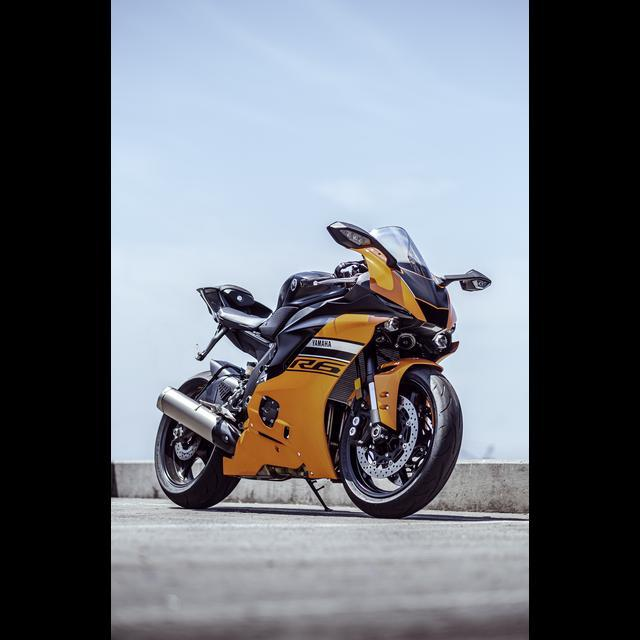motorcycle: (151, 219, 501, 525)
